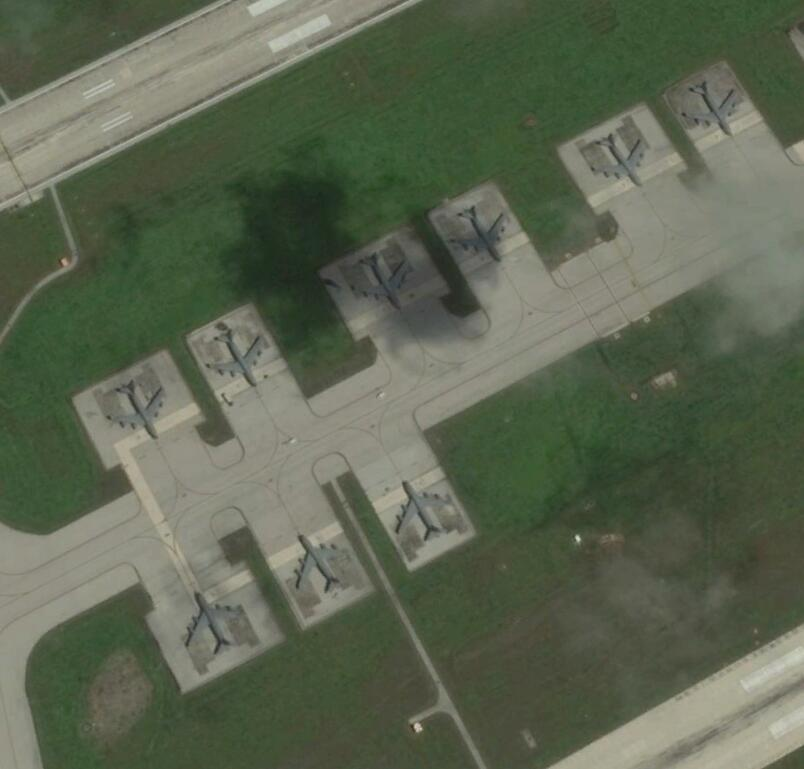A14: (449, 204, 520, 269), (391, 483, 458, 545), (681, 85, 751, 142), (180, 593, 243, 654), (209, 328, 271, 389), (107, 382, 169, 441), (294, 532, 353, 594), (353, 254, 416, 310), (591, 136, 656, 189)
